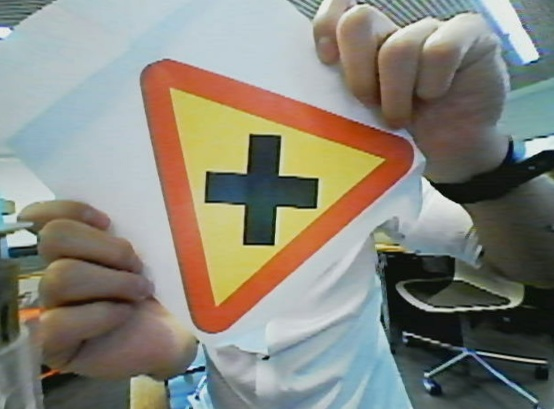junction: (138, 45, 416, 337)
